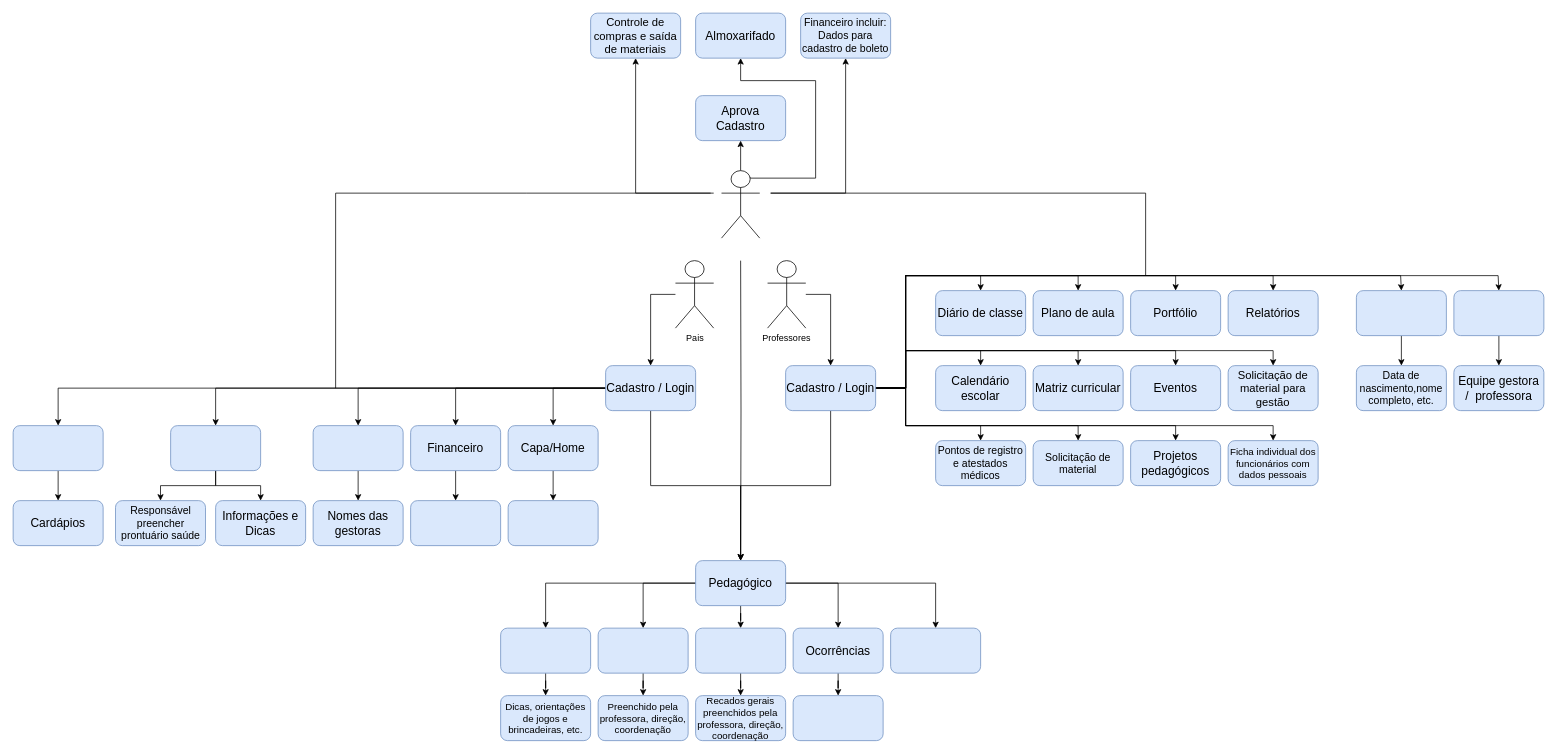
Some shapes in this 1557 by 755 pixel diagram are drawn without their labels. The shapes that lost their labels are listed below. From the top down, each one's box as (x1, y1, x2, y2) in pixels, then its label:
(721, 170, 760, 238): Direção
(1356, 290, 1446, 336): Dados dos alunos
(1453, 290, 1544, 336): Comunicação Interna
(12, 425, 103, 471): Alimentação
(170, 425, 261, 471): Saúde
(312, 425, 403, 471): Canal de comunicação para equipe gestora
(410, 500, 501, 546): Boletos (atrasados, vencer e pagos)
(507, 500, 598, 546): Dados pessoais e autorização de imagem da criança
(500, 627, 591, 673): Informações pedagógicas
(597, 627, 688, 673): Rotina
(695, 627, 786, 673): Comunicados
(890, 627, 981, 673): Galeria de fotos e vídeos
(792, 695, 883, 741): Preenchido pela professora e autorizado pela direção
